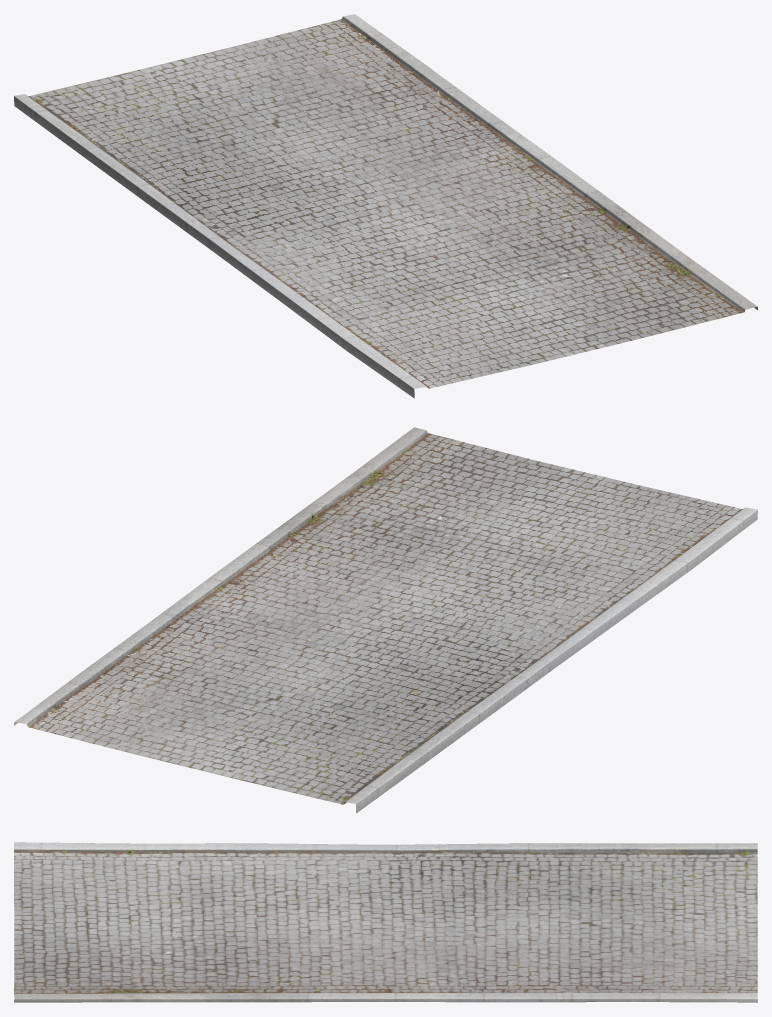
Rendered from road.glb.
3 views of the same model, one above another, from view 1: azimuth 30°, elevation 25°; view 2: azimuth 150°, elevation 25°; view 3: azimuth 270°, elevation 25° (orthographic). The views are drawn at different scales.
Visible parts, largest first — view 1: Plane.001; view 2: Plane.001; view 3: Plane.001.
Part boxes in pixels (x1,y1,x2,y2): Plane.001: (14,14,757,398); Plane.001: (14,427,757,813); Plane.001: (14,842,757,1002).
Bounding box in the file's own units: 3.64 × 0.1188 × 7.36.
1 material, 1 textured.
